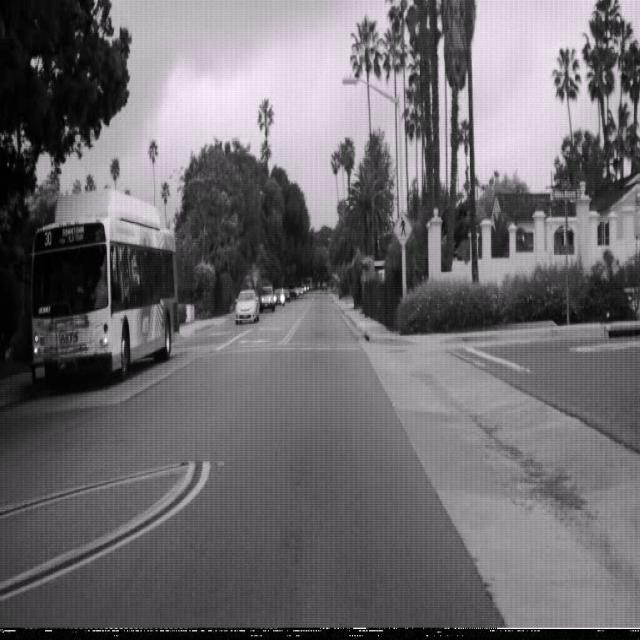pedestrianCrossing: (392, 209, 413, 250)
